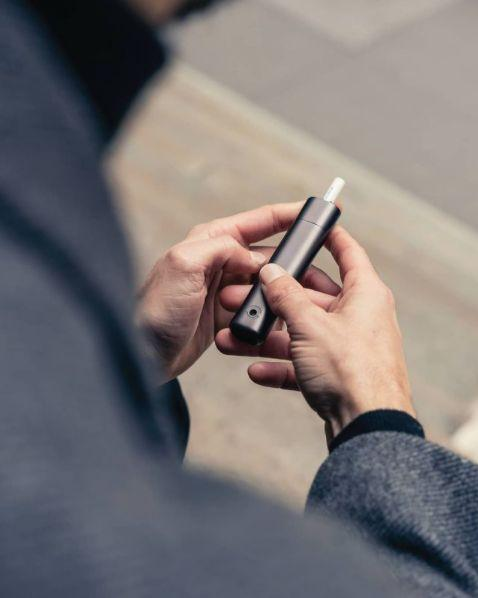iqos: (229, 177, 346, 346)
